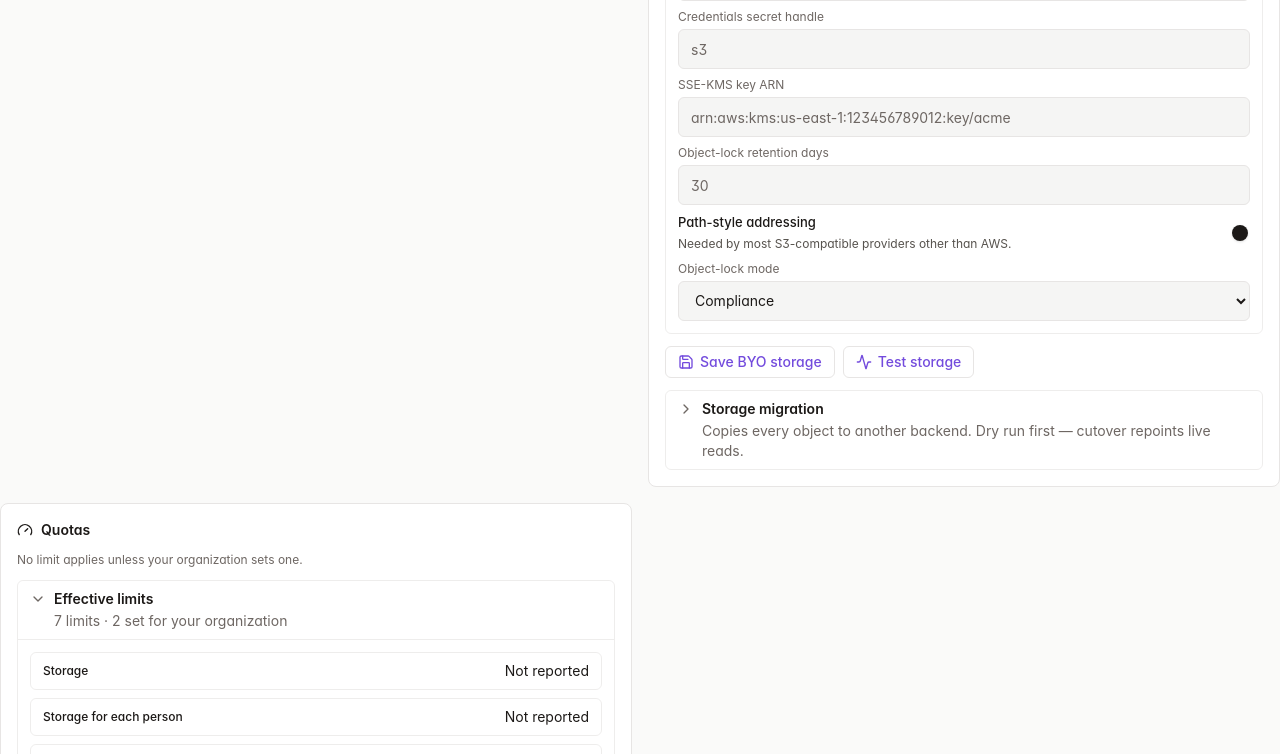
Test: TenantConfigManagement › tests BYO storage and renders the returned health result
The image size is (1280, 754).
(page scrolled)
Click the button "Test storage" at (908, 362), box [843,346,974,378]
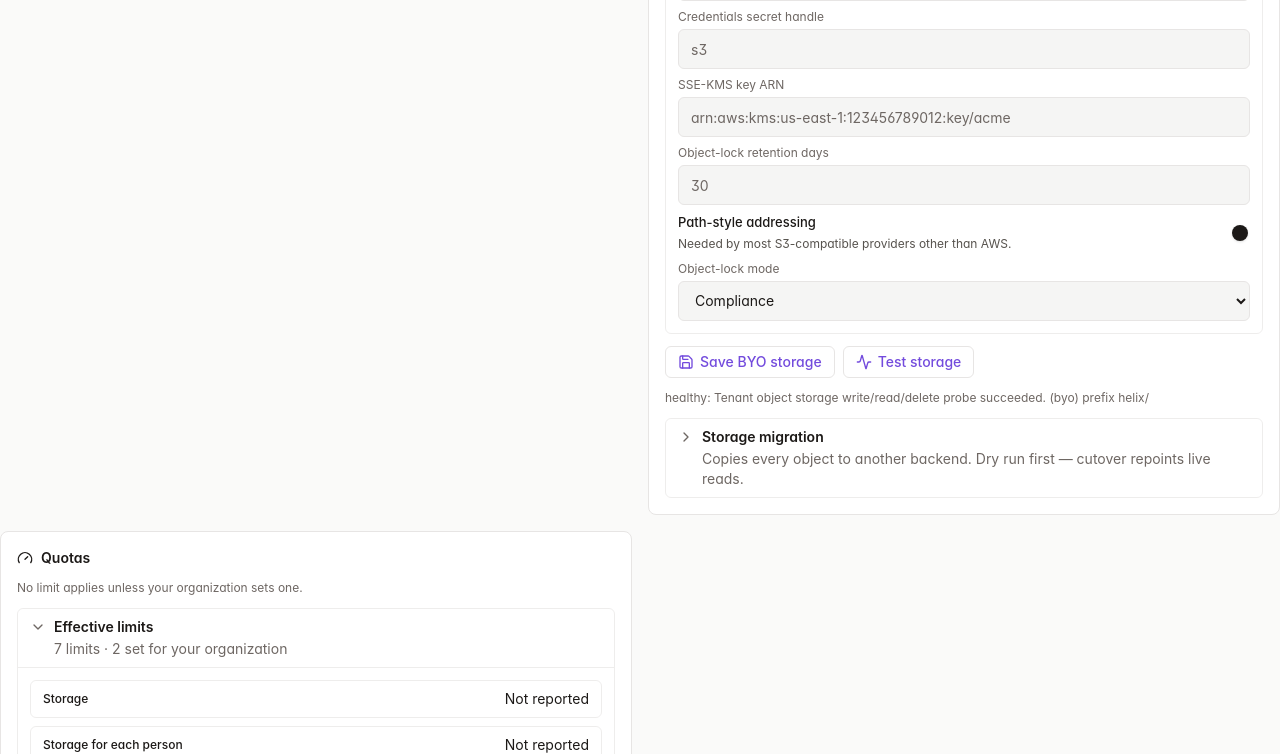
expect the text "Tenant object storage write/read/delete probe succeeded." is shown: met, box [714,390,1046,404]
expect the text "prefix helix/" is shown: met, box [1079,390,1149,404]
